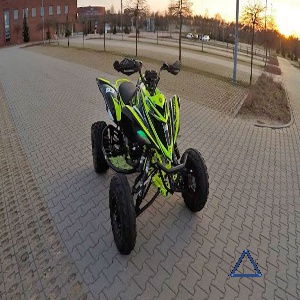triangle: (227, 246, 264, 280)
